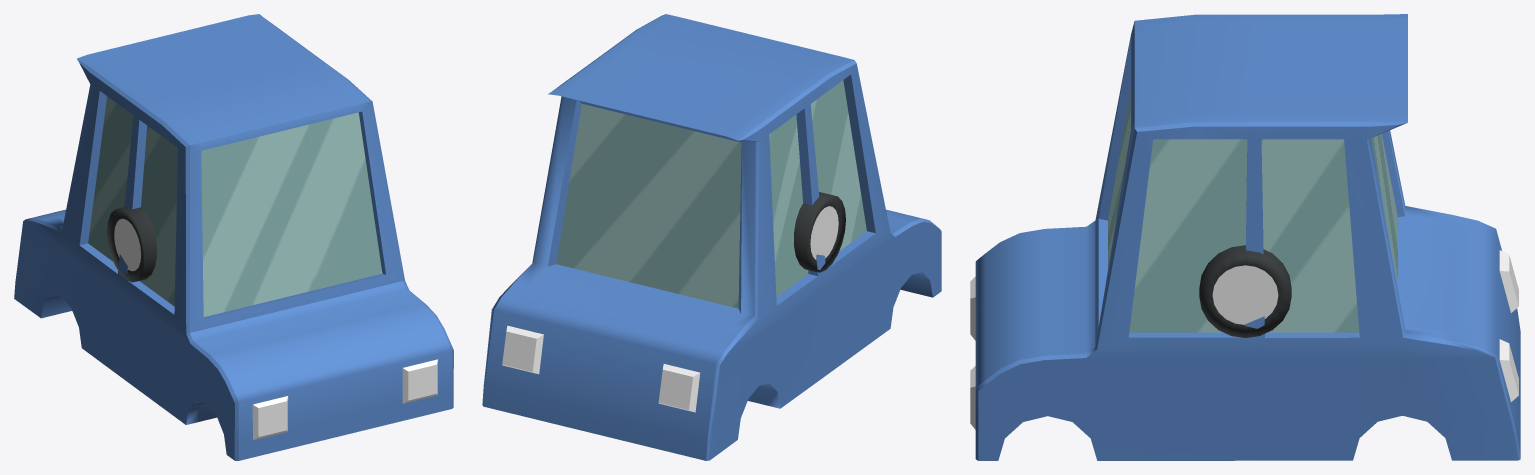
The model's file is car_5_B.fbx.
The picture shows the model from 3 angles, left to right: view 1: azimuth 30°, elevation 25°; view 2: azimuth 150°, elevation 25°; view 3: azimuth 270°, elevation 25°; orthographic projection. The views are drawn at different scales.
Parts seen in each view (by area): view 1: car_5_chasis_B, car_5_back_wheel_B, car_5_right_wheel_B; view 2: car_5_chasis_B, car_5_back_wheel_B, car_5_right_wheel_B; view 3: car_5_chasis_B, car_5_left_wheel_B.
Part boxes in pixels (x1,y1,x2,y2): car_5_chasis_B: (14, 14, 453, 460); car_5_back_wheel_B: (107, 207, 150, 282); car_5_right_wheel_B: (122, 209, 156, 280); car_5_chasis_B: (482, 14, 941, 460); car_5_back_wheel_B: (794, 195, 845, 272); car_5_right_wheel_B: (794, 192, 833, 268); car_5_chasis_B: (970, 14, 1520, 460); car_5_left_wheel_B: (1199, 245, 1291, 337).
Bounding box in the file's own units: 103 × 121 × 183.
